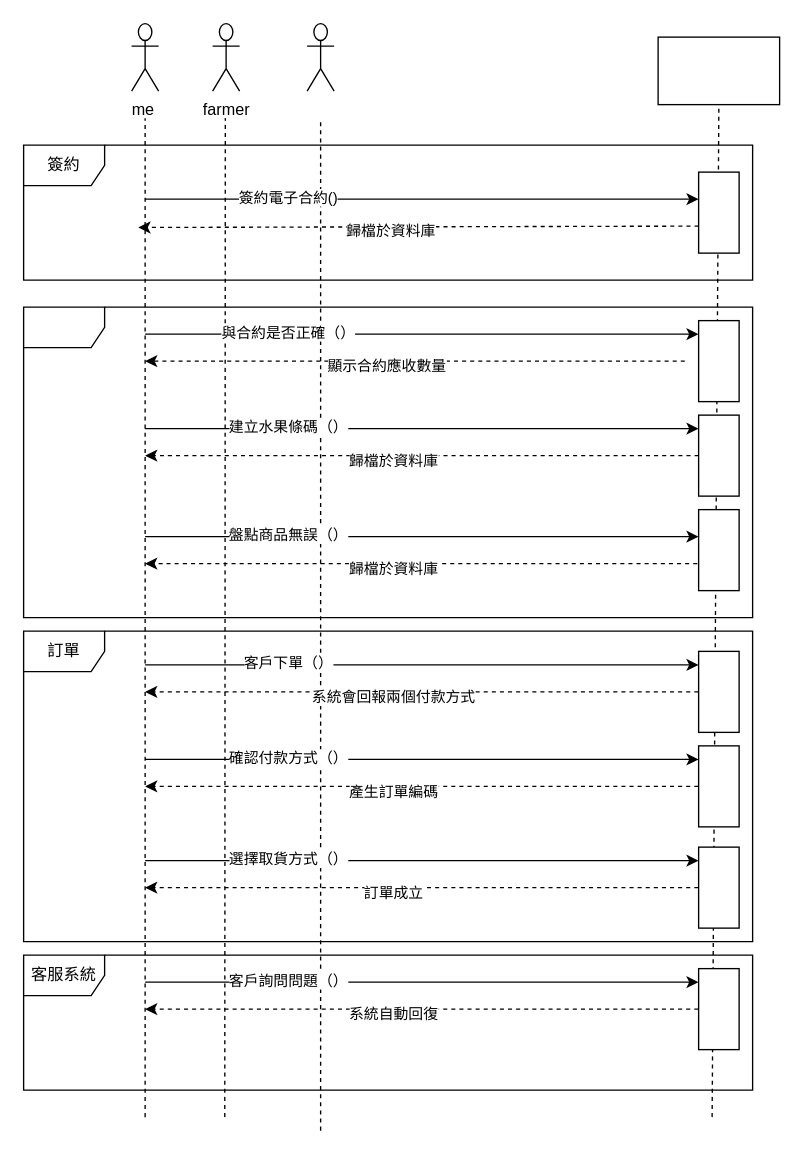
This 803x1156 diagram has some shape labels left out. Each missing label, with the box of its shape:
coustumer: (306, 22, 334, 91)
systrm: (657, 36, 780, 105)
收穫盤點: (22, 306, 753, 618)
